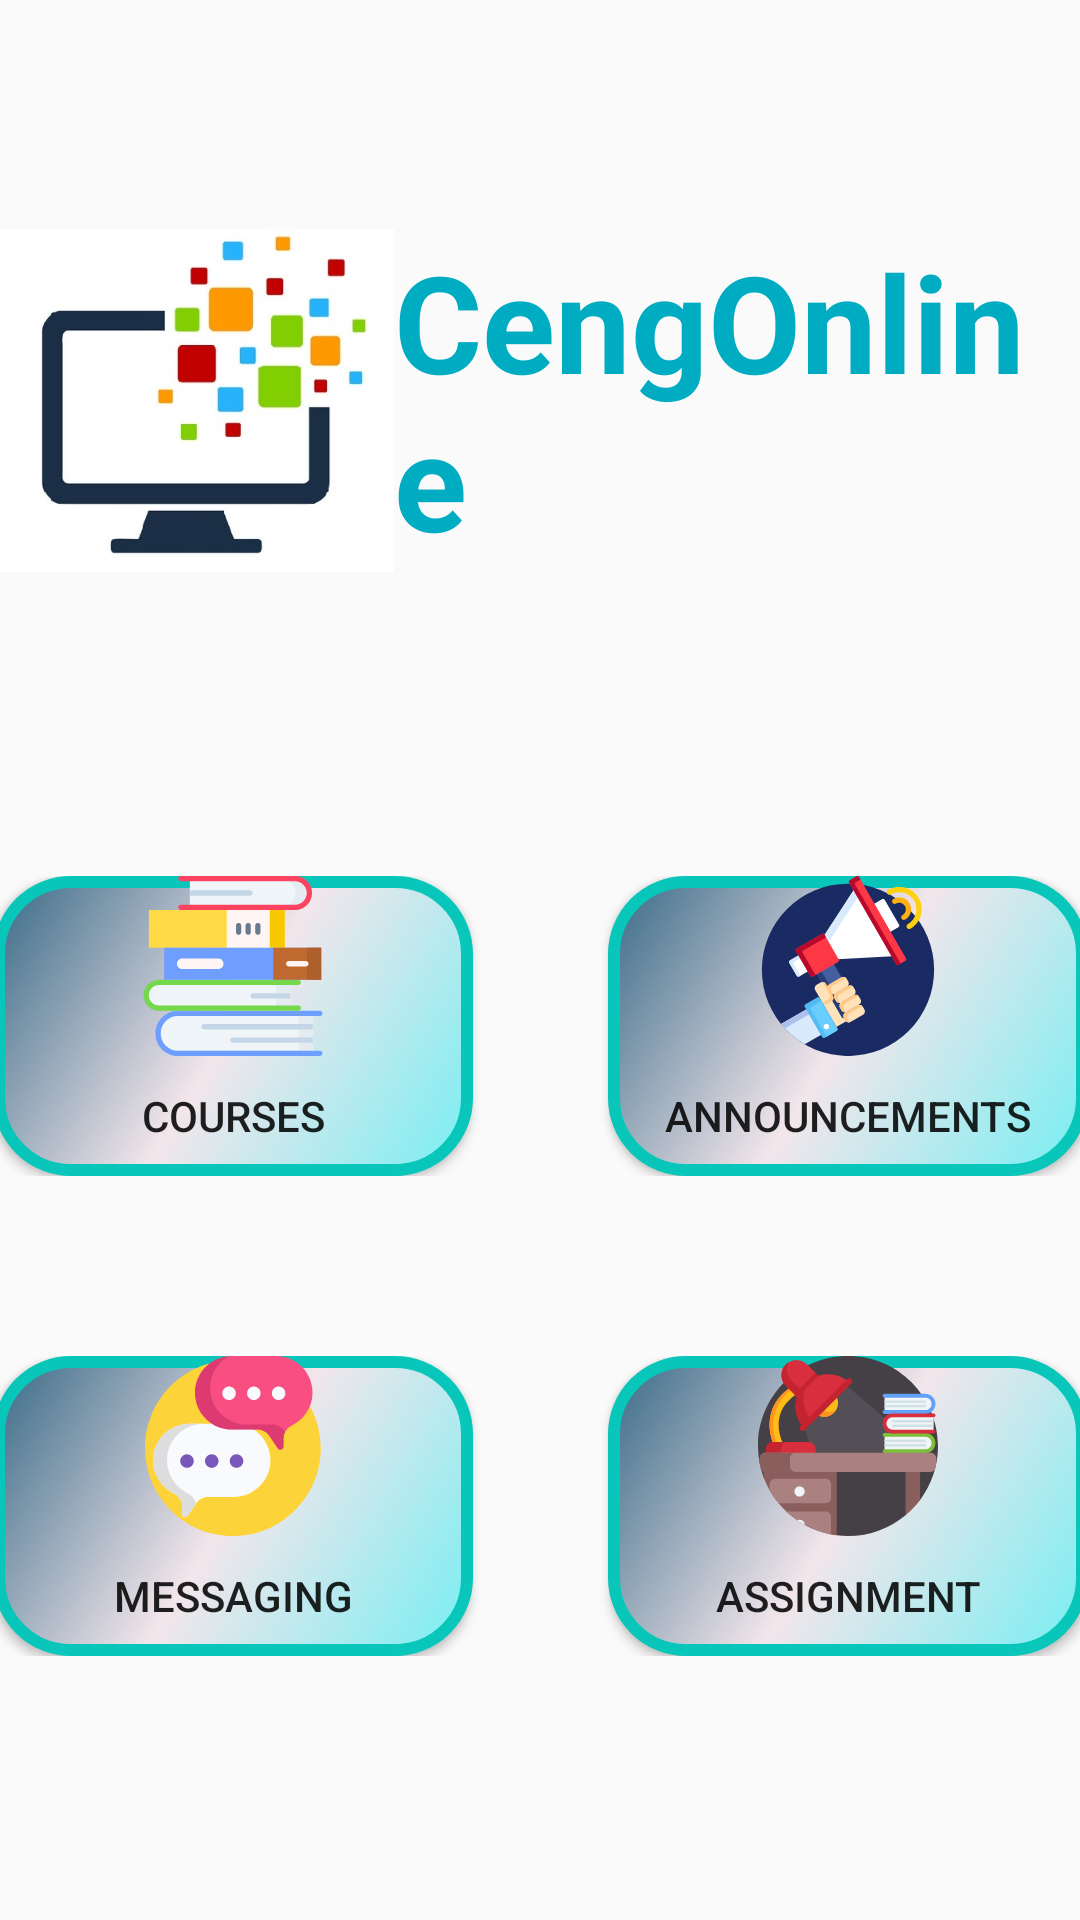

Named icons in this screenshot (1080px x 1920px) and their bounding boxes, Rect(x1, y1, x2, y2):
computer: Rect(42, 236, 367, 554)
